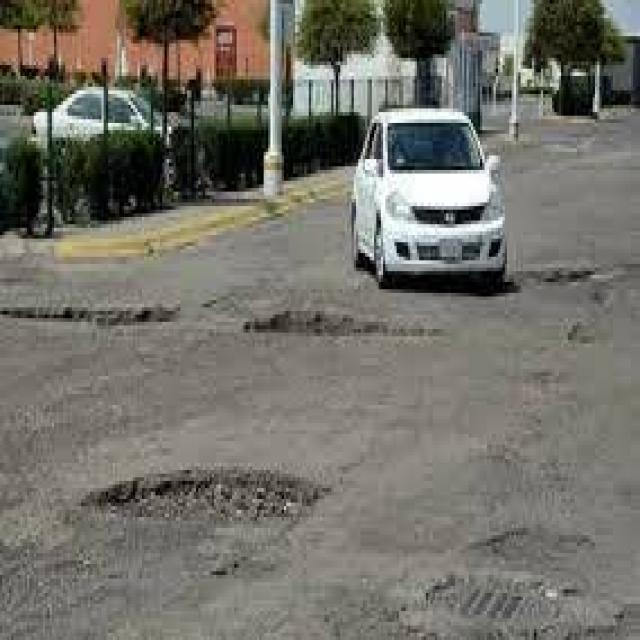Pothole: (16, 260, 484, 394), (74, 434, 365, 546)
